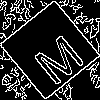M: (25, 25, 87, 88)
